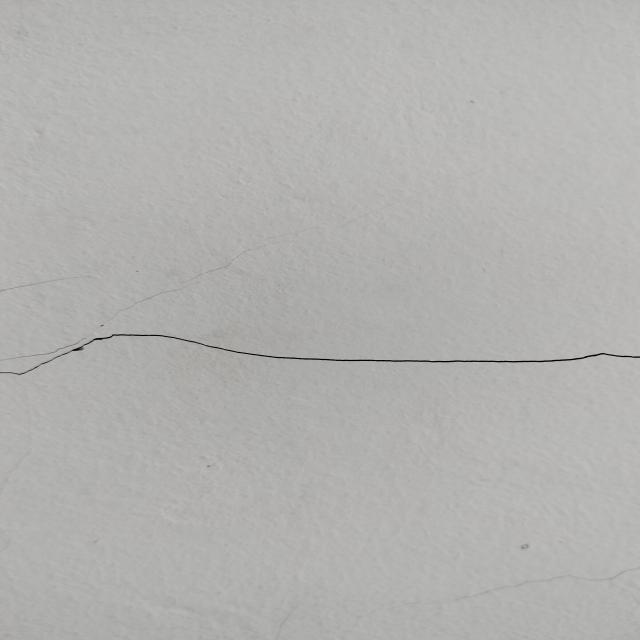Crack: (0, 326, 640, 382)
